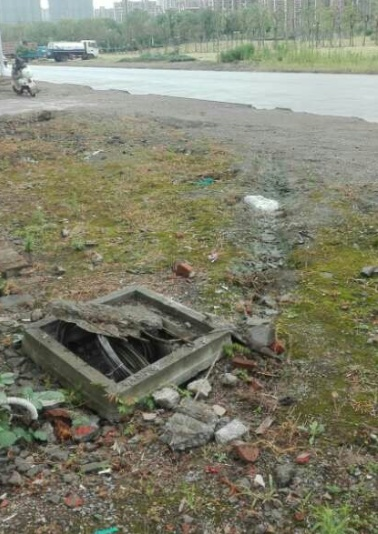broke: (23, 283, 232, 401)
